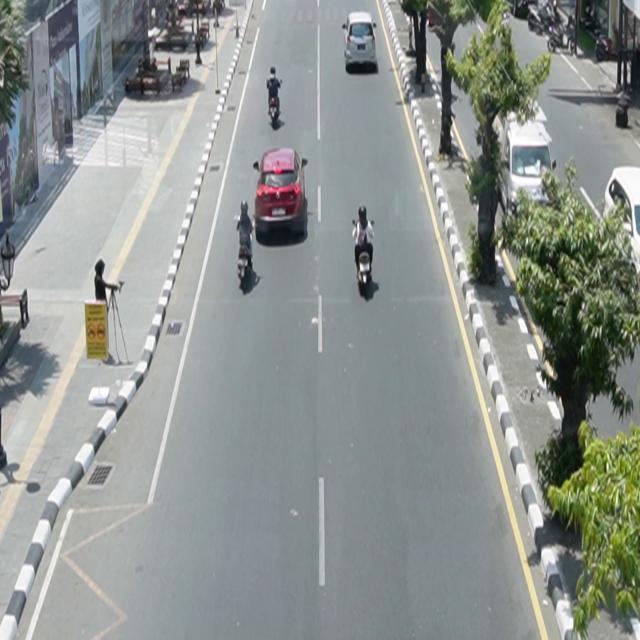car: (494, 103, 558, 220), (253, 147, 309, 237), (603, 166, 640, 282), (343, 12, 378, 73)
